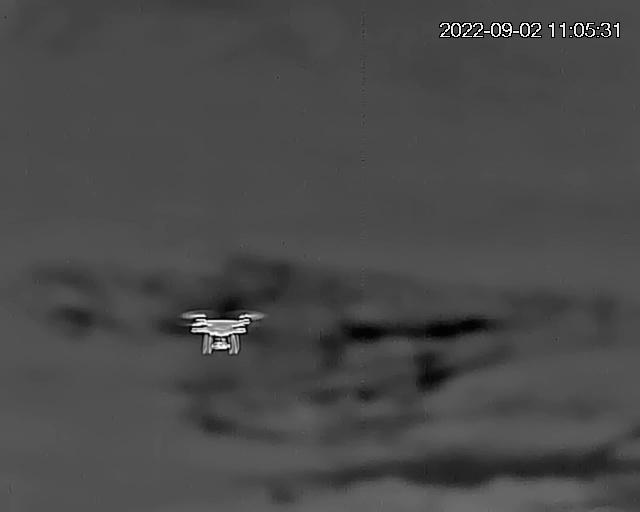DJI-Phantom: (180, 306, 269, 357)
